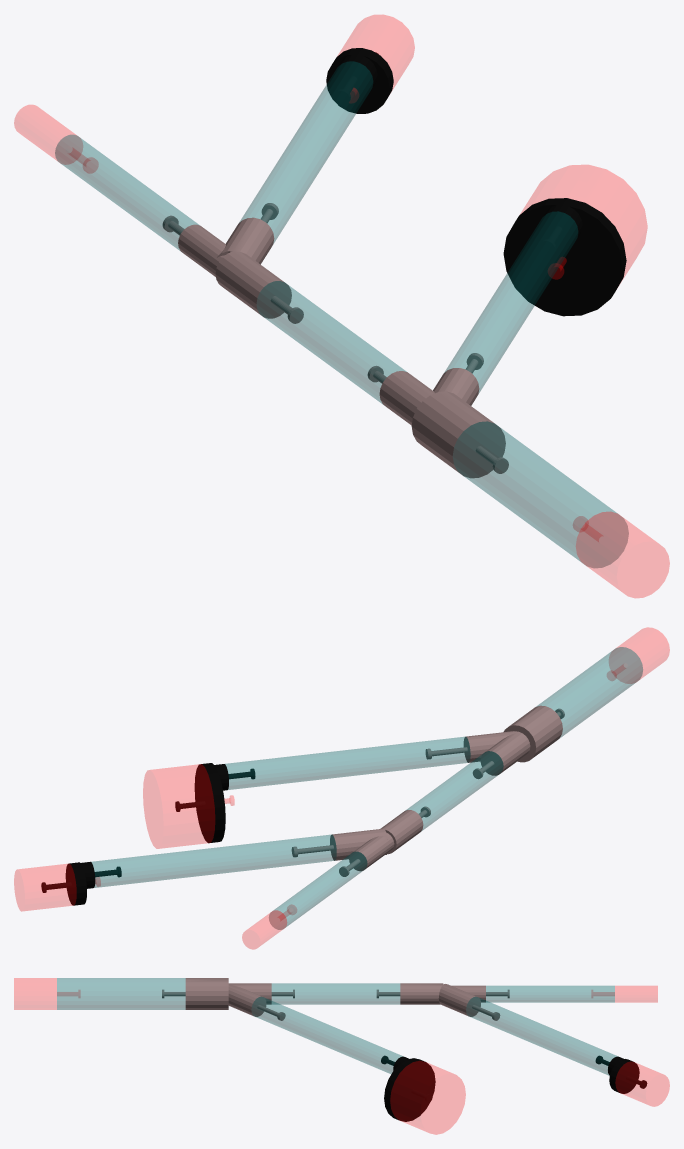
Rendered from FittingTreeWithTwoWyeConnectionsAndTwoReducers.gltf.
The picture shows the model from 3 angles, top to bottom: view 1: azimuth 30°, elevation 25°; view 2: azimuth 150°, elevation 25°; view 3: azimuth 270°, elevation 25°; orthographic projection. The views are drawn at different scales.
Visible parts, largest first — view 1: 50c53bde-6949-4b73-9d95-fdd8326ae5e2_mesh, 05cd0d6a-1d4c-44d4-90d4-eaffb02cb690_mesh, 4ff3ca05-4875-45f0-b0bc-7fe1f69e054c_mesh, 75012d06-8c75-41fc-afe5-e2eb677b8832_mesh, fc533033-89d2-4c18-acfc-107c40ed4ab3_mesh, 83c4bf50-b886-4ec4-8f80-a7a00914f756_mesh, d680b796-aa77-4e29-ac72-907a18e453ef_mesh, 3986e65a-fbac-40f2-b804-8f4518aa41ff_mesh, 72a23e64-ea7d-452f-a640-4ea18ef1a25f_mesh, f6b935f9-a405-41f8-a7ca-f9969dce5914_mesh, 6960946a-541c-4c06-9ee5-4c094a666cbd_mesh, c2f5ae32-9ee4-45f3-ae10-8e6ce718dfdf_mesh (+1 smaller); view 2: 75012d06-8c75-41fc-afe5-e2eb677b8832_mesh, fc533033-89d2-4c18-acfc-107c40ed4ab3_mesh, 72a23e64-ea7d-452f-a640-4ea18ef1a25f_mesh, 4ff3ca05-4875-45f0-b0bc-7fe1f69e054c_mesh, 50c53bde-6949-4b73-9d95-fdd8326ae5e2_mesh, 83c4bf50-b886-4ec4-8f80-a7a00914f756_mesh, d680b796-aa77-4e29-ac72-907a18e453ef_mesh, 05cd0d6a-1d4c-44d4-90d4-eaffb02cb690_mesh, c2f5ae32-9ee4-45f3-ae10-8e6ce718dfdf_mesh, f6b935f9-a405-41f8-a7ca-f9969dce5914_mesh, 3986e65a-fbac-40f2-b804-8f4518aa41ff_mesh, 6960946a-541c-4c06-9ee5-4c094a666cbd_mesh (+1 smaller); view 3: 72a23e64-ea7d-452f-a640-4ea18ef1a25f_mesh, 50c53bde-6949-4b73-9d95-fdd8326ae5e2_mesh, 75012d06-8c75-41fc-afe5-e2eb677b8832_mesh, fc533033-89d2-4c18-acfc-107c40ed4ab3_mesh, 4ff3ca05-4875-45f0-b0bc-7fe1f69e054c_mesh, d680b796-aa77-4e29-ac72-907a18e453ef_mesh, 05cd0d6a-1d4c-44d4-90d4-eaffb02cb690_mesh, 83c4bf50-b886-4ec4-8f80-a7a00914f756_mesh, f6b935f9-a405-41f8-a7ca-f9969dce5914_mesh, c2f5ae32-9ee4-45f3-ae10-8e6ce718dfdf_mesh, 3986e65a-fbac-40f2-b804-8f4518aa41ff_mesh, 6960946a-541c-4c06-9ee5-4c094a666cbd_mesh (+1 smaller).
Part boxes in pixels (box(x1,y1,x2,y2)): 50c53bde-6949-4b73-9d95-fdd8326ae5e2_mesh: box(453, 421, 628, 567); 05cd0d6a-1d4c-44d4-90d4-eaffb02cb690_mesh: box(503, 198, 626, 316); 4ff3ca05-4875-45f0-b0bc-7fe1f69e054c_mesh: box(367, 353, 508, 478); 75012d06-8c75-41fc-afe5-e2eb677b8832_mesh: box(239, 61, 372, 243); fc533033-89d2-4c18-acfc-107c40ed4ab3_mesh: box(444, 211, 577, 393); 83c4bf50-b886-4ec4-8f80-a7a00914f756_mesh: box(162, 203, 303, 323); d680b796-aa77-4e29-ac72-907a18e453ef_mesh: box(257, 281, 406, 403); 3986e65a-fbac-40f2-b804-8f4518aa41ff_mesh: box(573, 512, 669, 597); 72a23e64-ea7d-452f-a640-4ea18ef1a25f_mesh: box(520, 165, 647, 281); f6b935f9-a405-41f8-a7ca-f9969dce5914_mesh: box(55, 135, 198, 250); 6960946a-541c-4c06-9ee5-4c094a666cbd_mesh: box(326, 48, 393, 113); c2f5ae32-9ee4-45f3-ae10-8e6ce718dfdf_mesh: box(338, 15, 414, 102); 75012d06-8c75-41fc-afe5-e2eb677b8832_mesh: box(92, 834, 336, 887); fc533033-89d2-4c18-acfc-107c40ed4ab3_mesh: box(225, 737, 470, 789); 72a23e64-ea7d-452f-a640-4ea18ef1a25f_mesh: box(143, 764, 234, 848); 4ff3ca05-4875-45f0-b0bc-7fe1f69e054c_mesh: box(425, 705, 564, 778); 50c53bde-6949-4b73-9d95-fdd8326ae5e2_mesh: box(536, 647, 642, 737); 83c4bf50-b886-4ec4-8f80-a7a00914f756_mesh: box(291, 806, 430, 876); d680b796-aa77-4e29-ac72-907a18e453ef_mesh: box(407, 751, 503, 830); 05cd0d6a-1d4c-44d4-90d4-eaffb02cb690_mesh: box(175, 763, 255, 843); c2f5ae32-9ee4-45f3-ae10-8e6ce718dfdf_mesh: box(14, 864, 100, 911); f6b935f9-a405-41f8-a7ca-f9969dce5914_mesh: box(269, 851, 367, 929); 3986e65a-fbac-40f2-b804-8f4518aa41ff_mesh: box(607, 627, 669, 683); 6960946a-541c-4c06-9ee5-4c094a666cbd_mesh: box(41, 861, 121, 905); 72a23e64-ea7d-452f-a640-4ea18ef1a25f_mesh: box(390, 1061, 465, 1134); 50c53bde-6949-4b73-9d95-fdd8326ae5e2_mesh: box(57, 978, 185, 1009); 75012d06-8c75-41fc-afe5-e2eb677b8832_mesh: box(466, 997, 617, 1075); fc533033-89d2-4c18-acfc-107c40ed4ab3_mesh: box(251, 997, 402, 1073); 4ff3ca05-4875-45f0-b0bc-7fe1f69e054c_mesh: box(162, 978, 294, 1020); d680b796-aa77-4e29-ac72-907a18e453ef_mesh: box(272, 983, 399, 1004); 05cd0d6a-1d4c-44d4-90d4-eaffb02cb690_mesh: box(381, 1055, 435, 1121); 83c4bf50-b886-4ec4-8f80-a7a00914f756_mesh: box(376, 983, 509, 1020); f6b935f9-a405-41f8-a7ca-f9969dce5914_mesh: box(486, 986, 614, 1002); c2f5ae32-9ee4-45f3-ae10-8e6ce718dfdf_mesh: box(615, 1061, 669, 1106); 3986e65a-fbac-40f2-b804-8f4518aa41ff_mesh: box(14, 978, 79, 1009); 6960946a-541c-4c06-9ee5-4c094a666cbd_mesh: box(595, 1055, 647, 1093).
Size of the model in its own units: 1.18 by 0.325 by 3.06.
